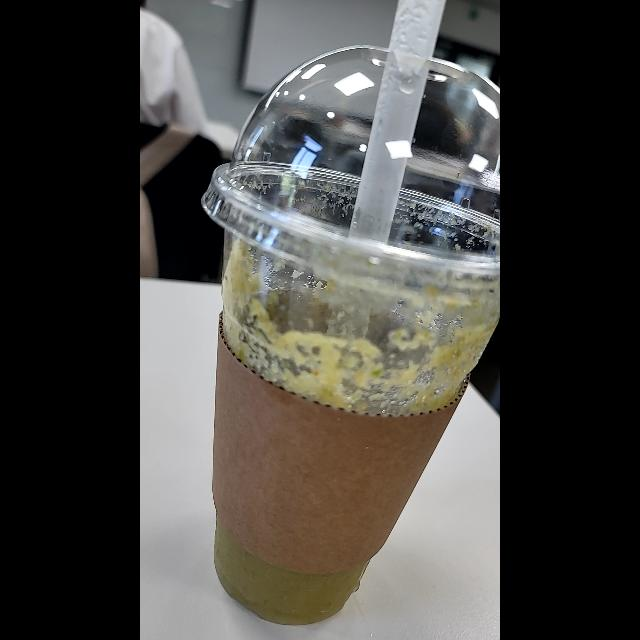plastic_cup: (208, 31, 500, 634)
plastic_cup_lid: (200, 43, 500, 313)
straw: (322, 1, 448, 392)
